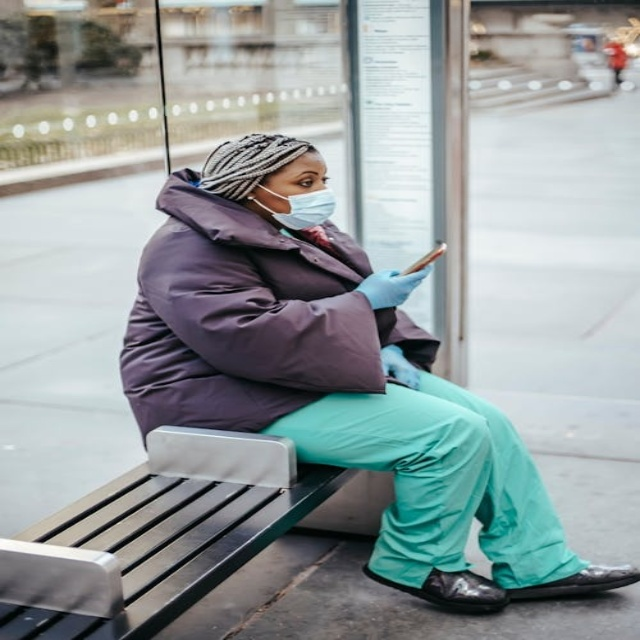Guantes: (356, 265, 433, 311), (381, 343, 423, 390)
Mascara: (255, 182, 337, 230)
Sin_gafas: (275, 164, 338, 191)
